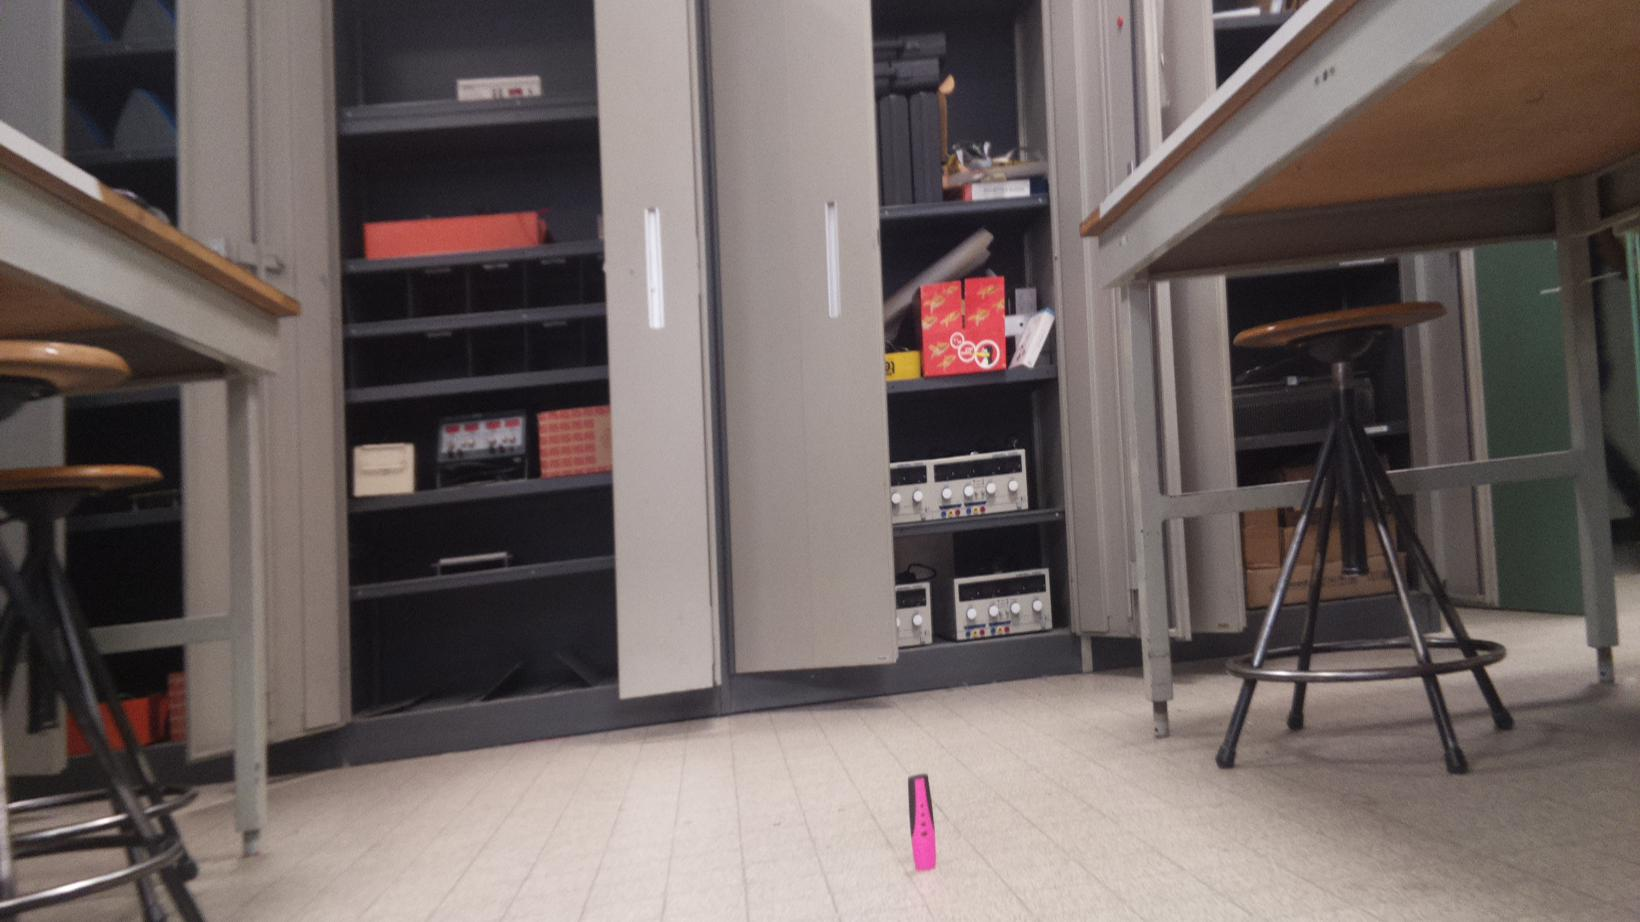small: (906, 772, 941, 872)
